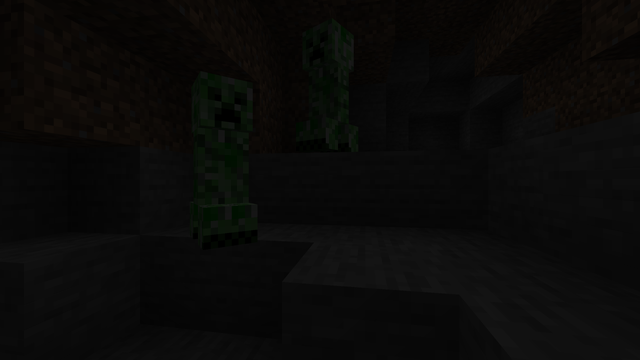creepers: (175, 63, 258, 247), (301, 12, 350, 154)
